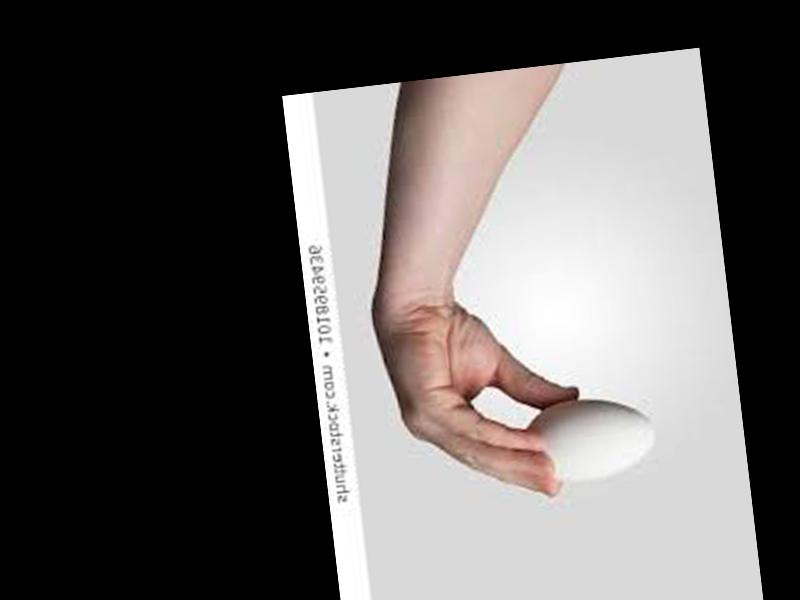Eggs: (522, 391, 661, 490)
